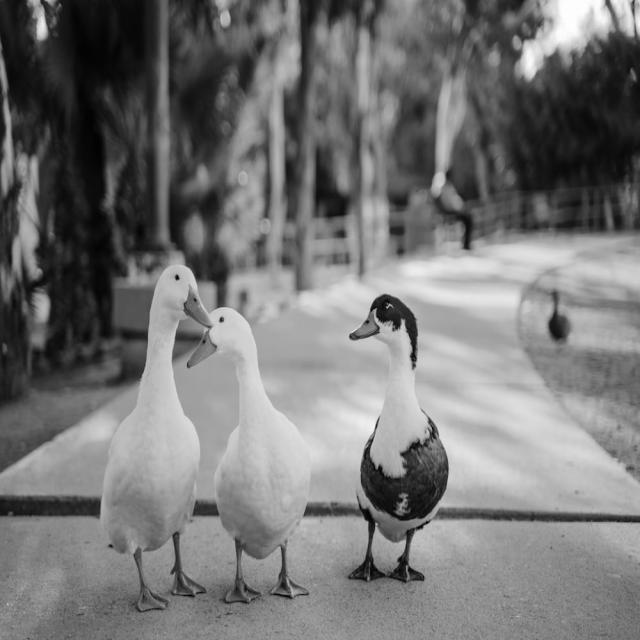ducks: (62, 242, 212, 612), (192, 294, 344, 626), (342, 282, 456, 595)
